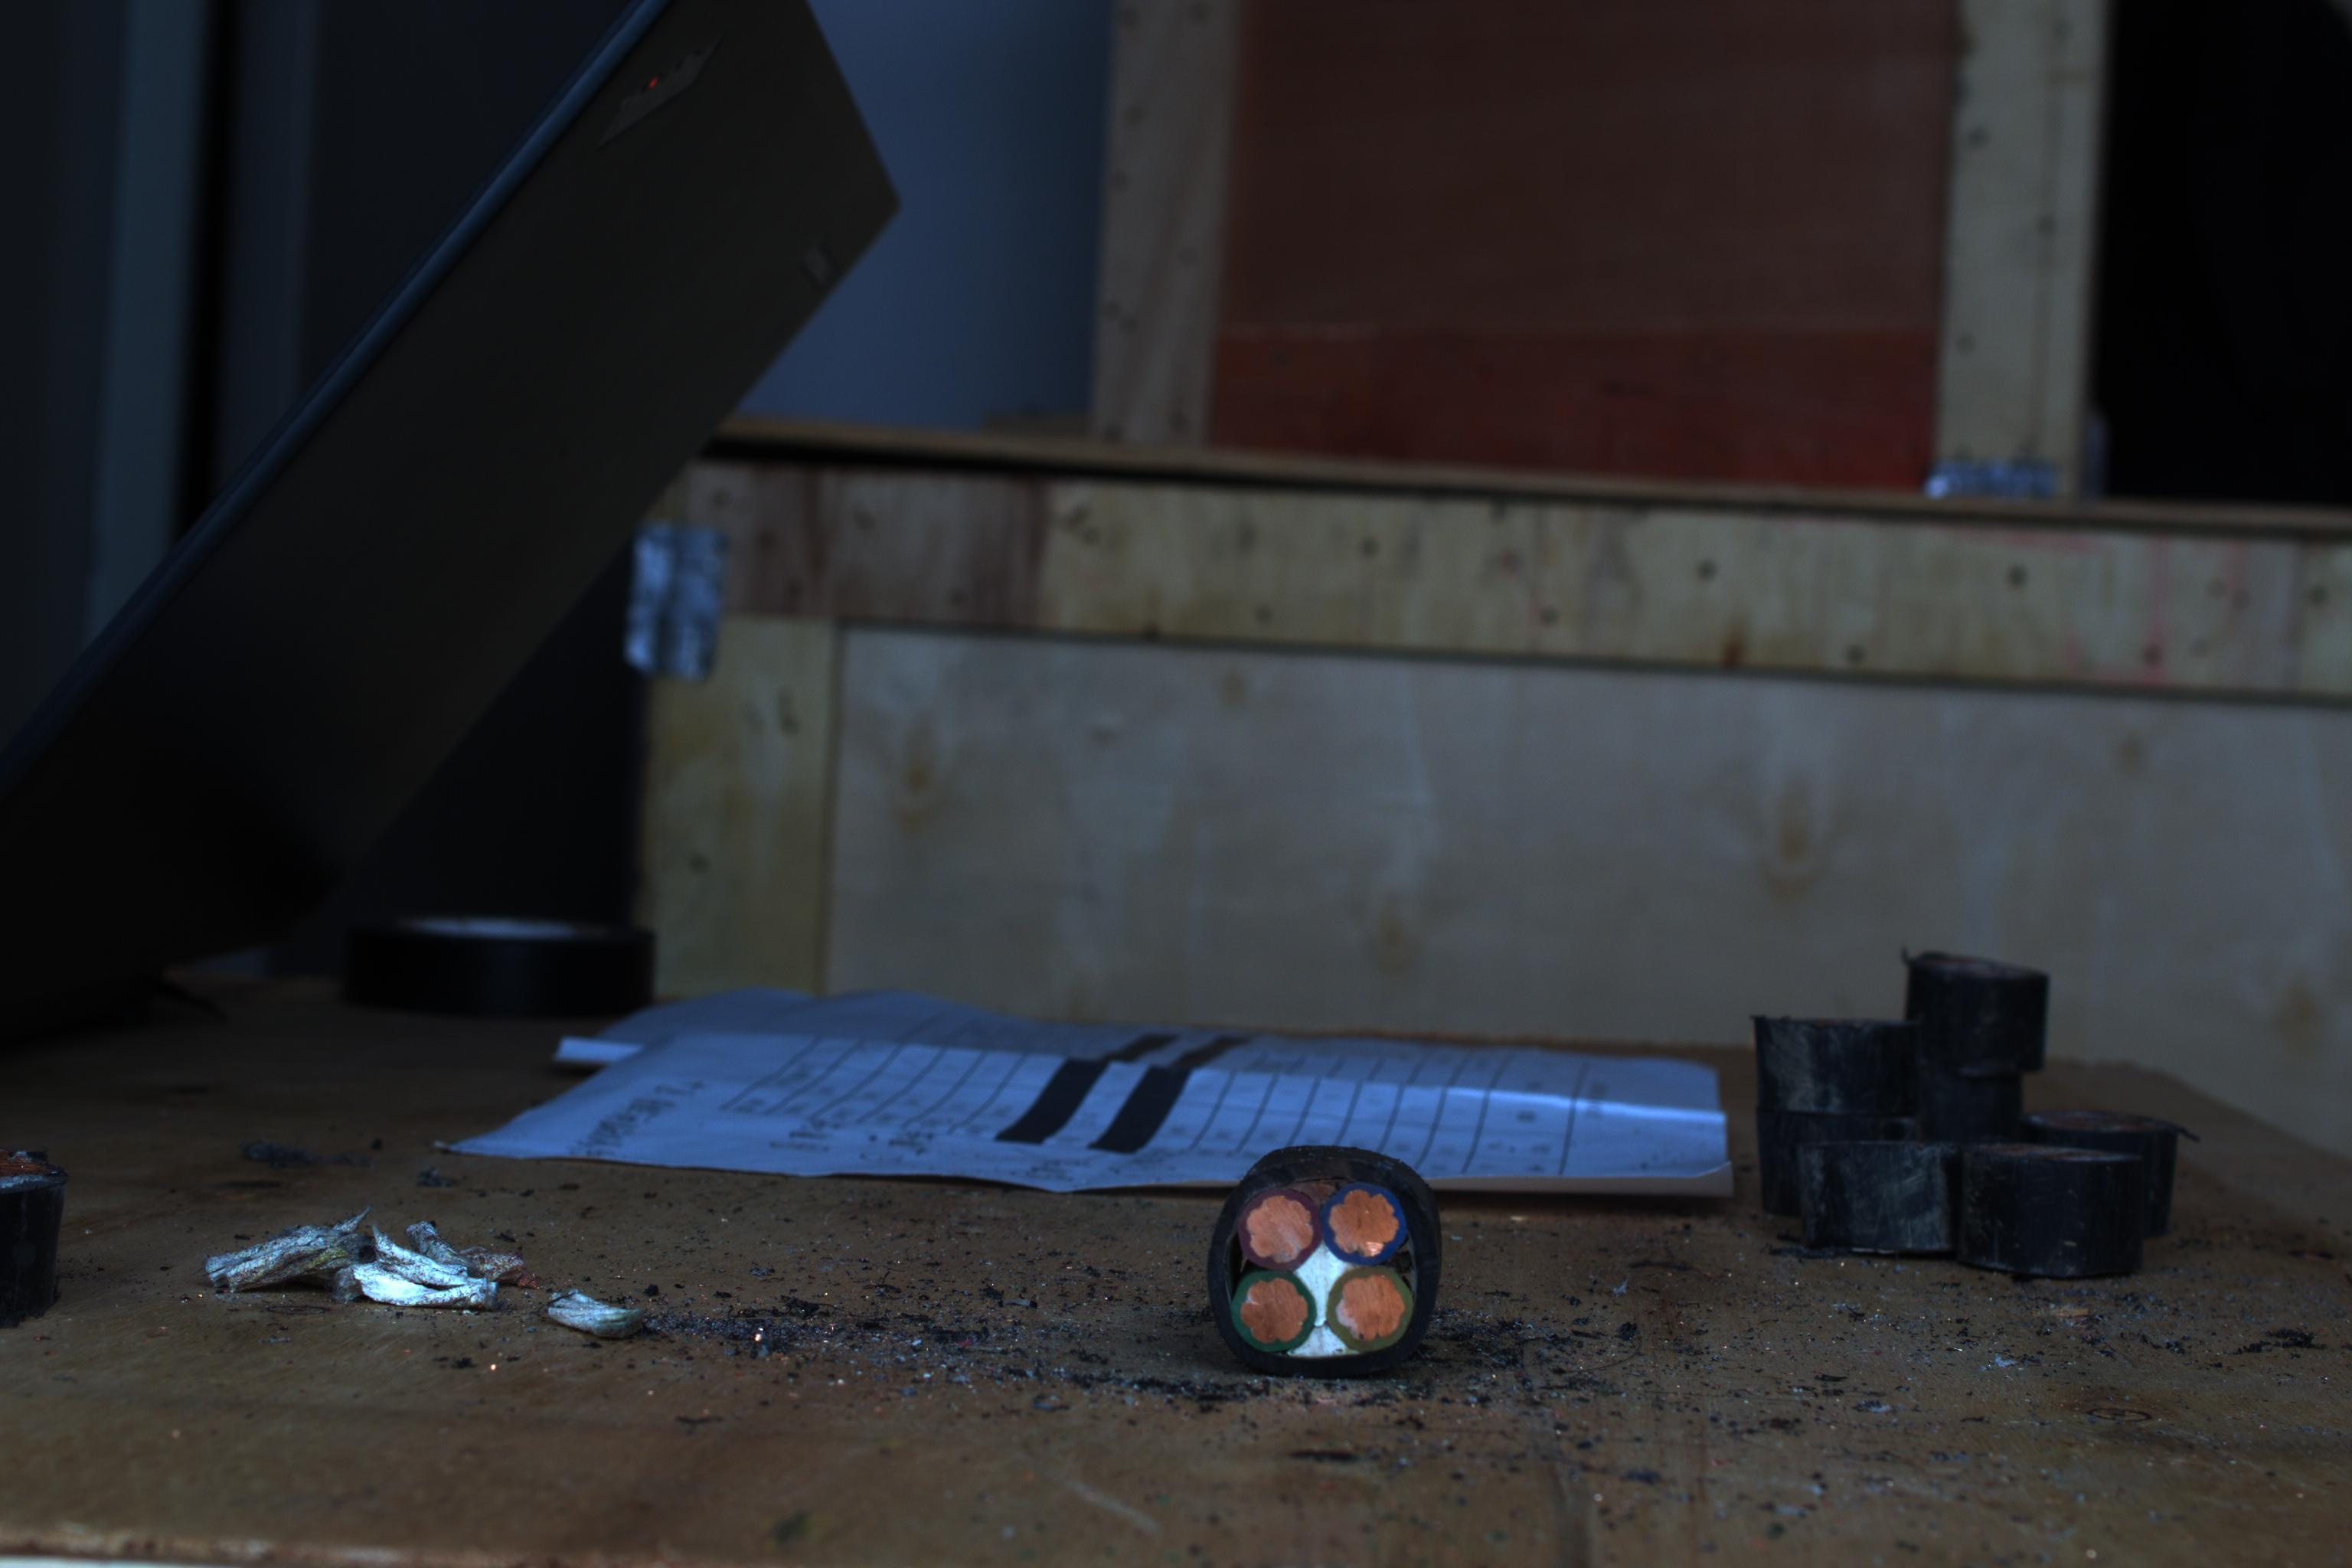YJV_0.6_1kV_4x35: (1204, 1151, 1456, 1384)
